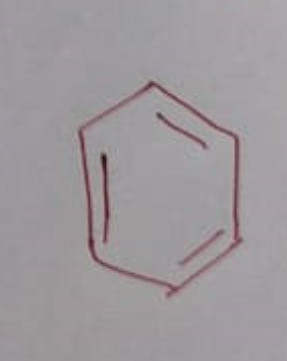shape_mask: (63, 66, 259, 308)
